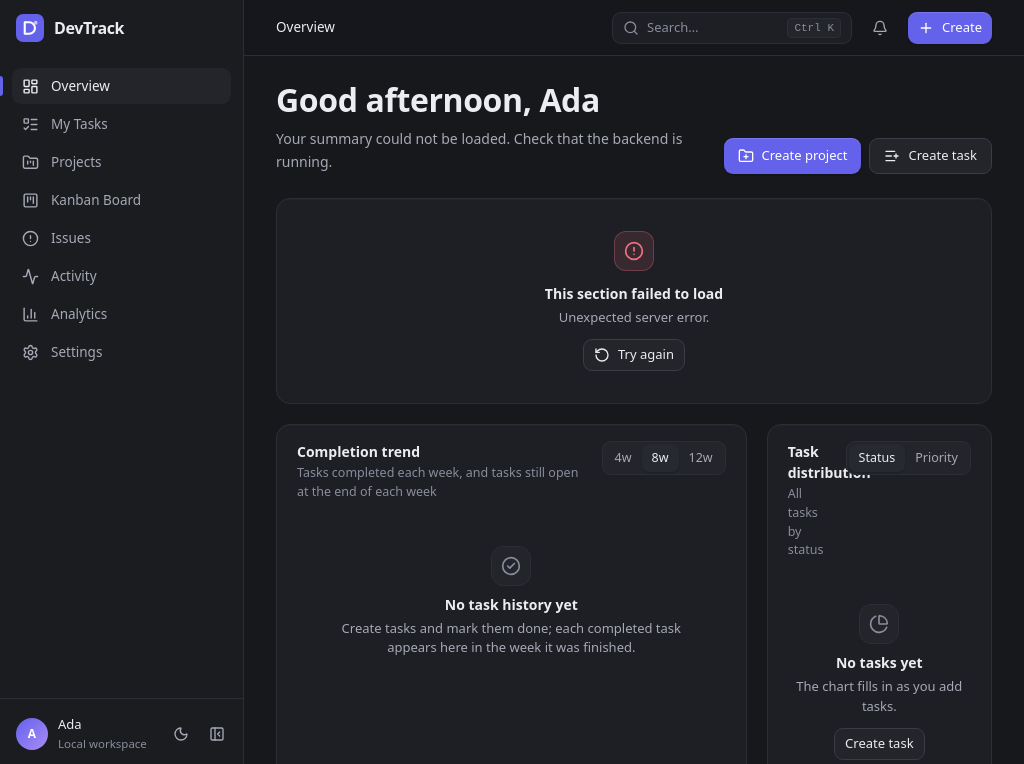
Test: Dashboard › shows an error with a working retry when the API fails
The width and height of the screenshot is (1024, 764).
Check: the text "Unexpected server error." is shown, box [559, 308, 709, 326]
Click the button "Try again": click(634, 355) [583, 339, 685, 371]
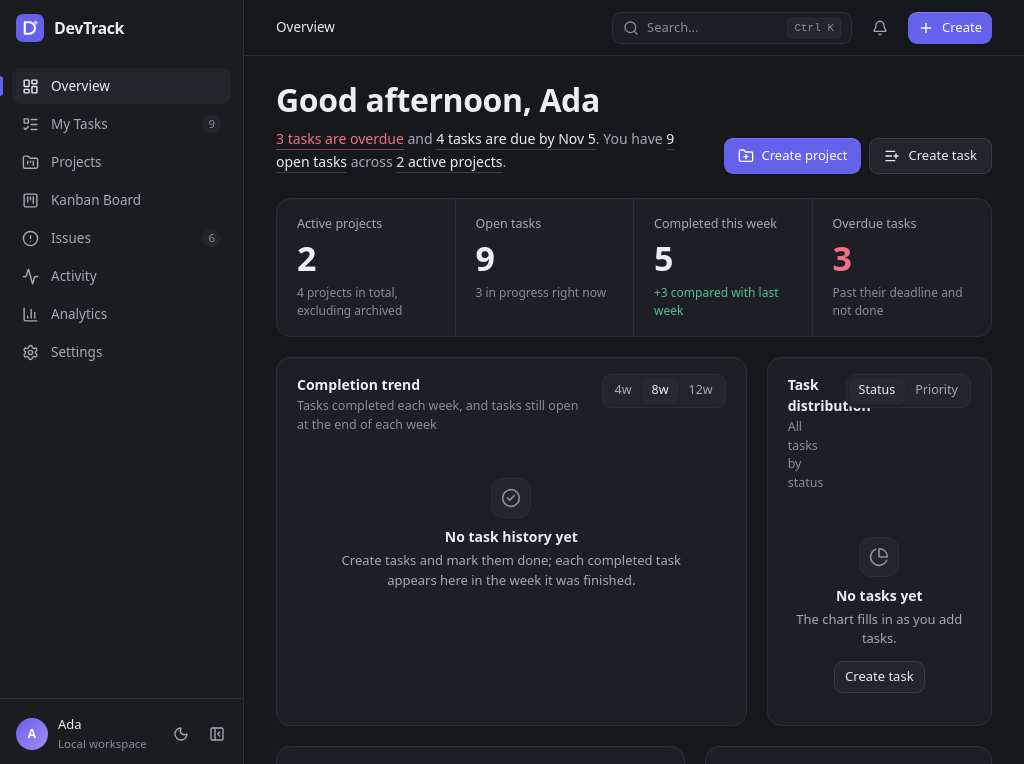
Check: the link with aria-label "Open tasks: 9." is shown, box [476, 214, 606, 301]
